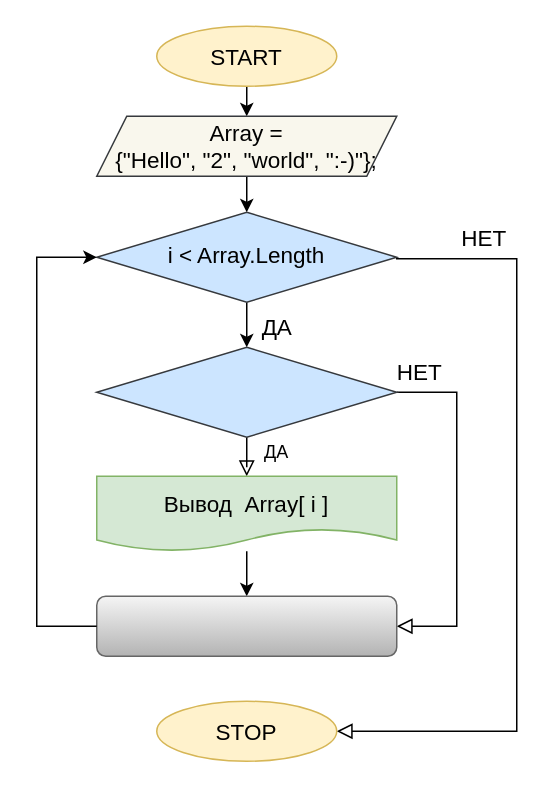
This 558x788 diagram has some shape labels left out. Here are the shapes that lost their labels. From the top down, the box of each, then its label:
(95, 346, 397, 437): Array[ i ].Length <= 3
(95, 595, 397, 656): i ++
